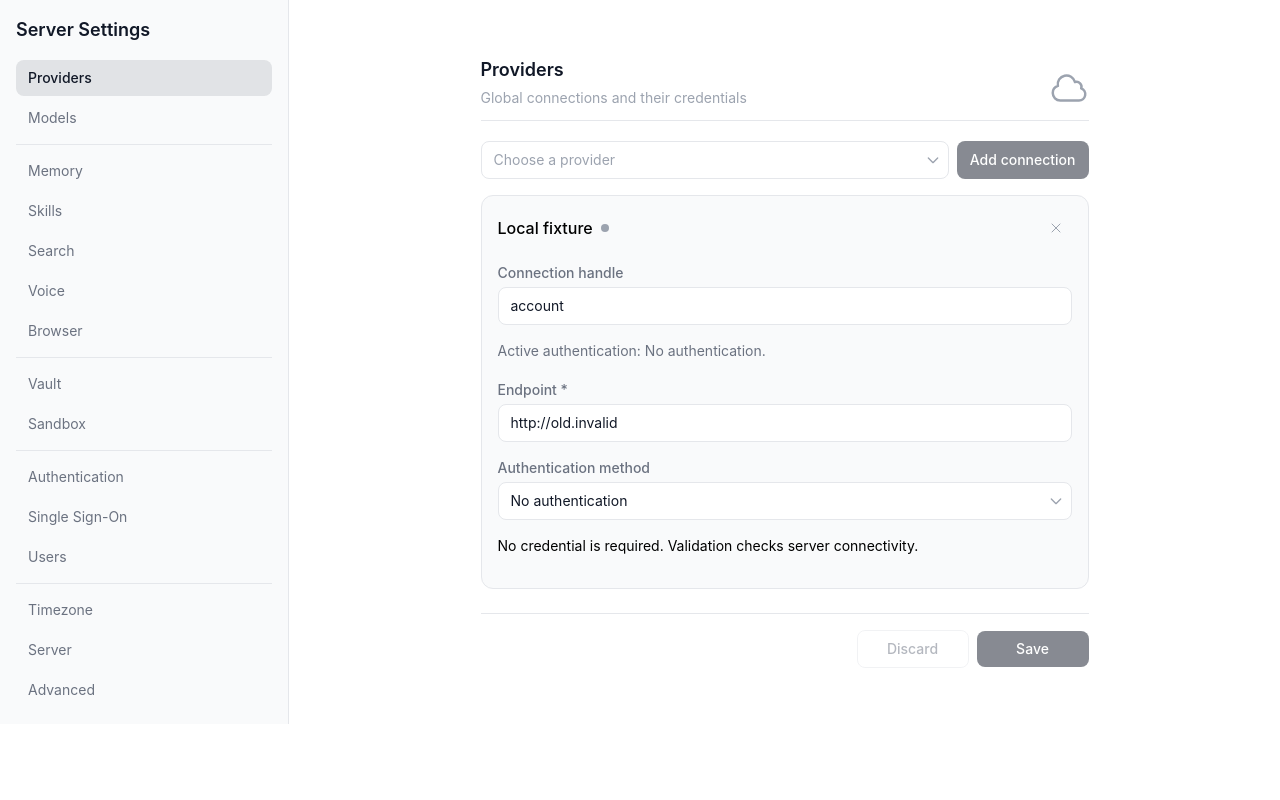
Test case: discarding an in-flight validation cannot restore the abandoned endpoint or proof
Type "http://abandoned.invalid" into the field labelled "Endpoint *" at (784, 423), box left=498, top=404, right=1072, bottom=442
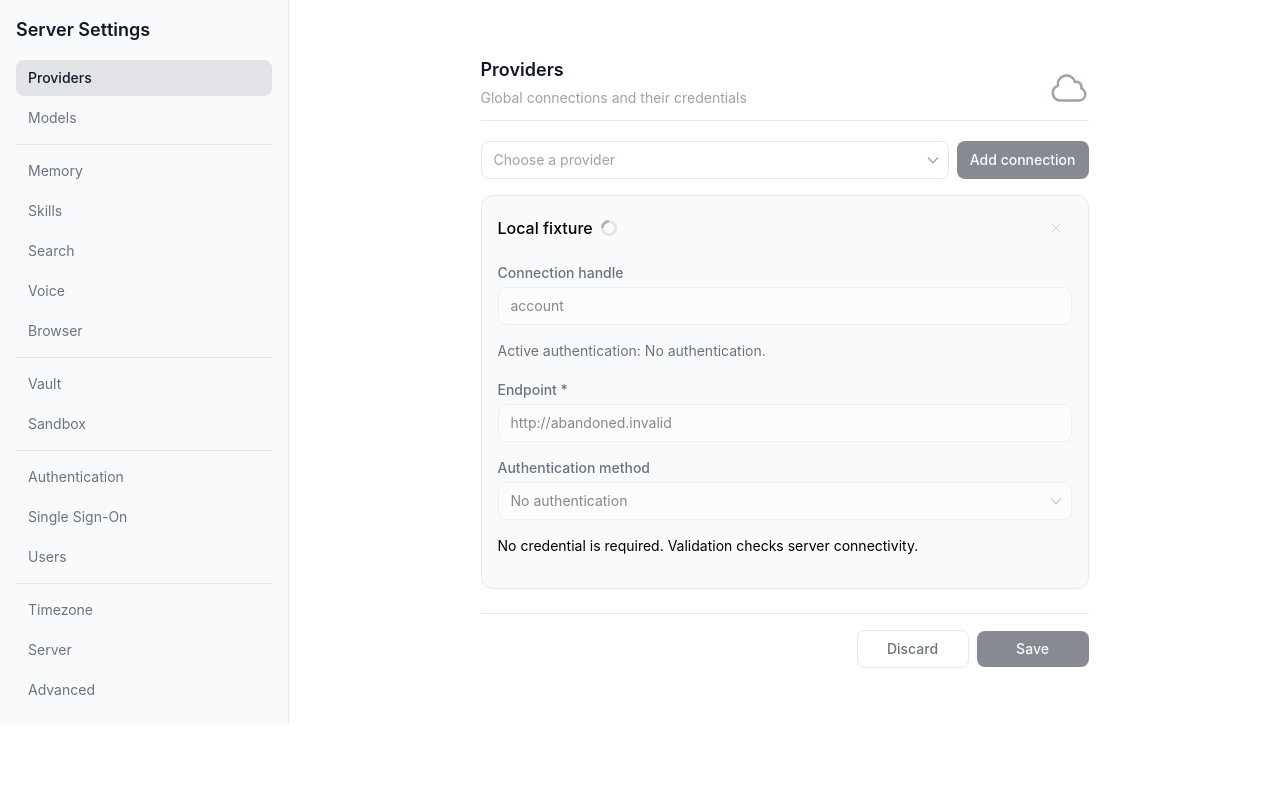
Click the button "Discard" at (912, 649), box left=856, top=630, right=968, bottom=668
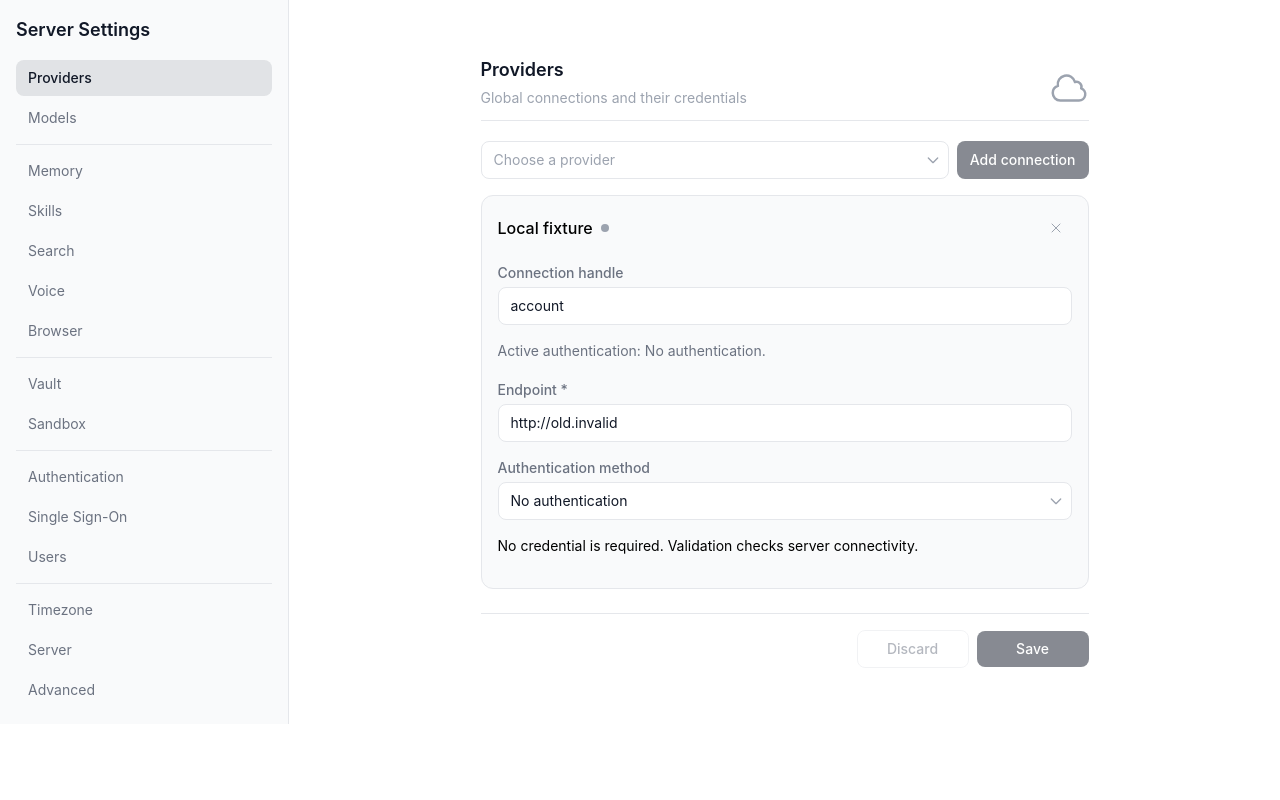
Expected: the field labelled "Endpoint *" holds "http://old.invalid", left=498, top=404, right=1072, bottom=442
